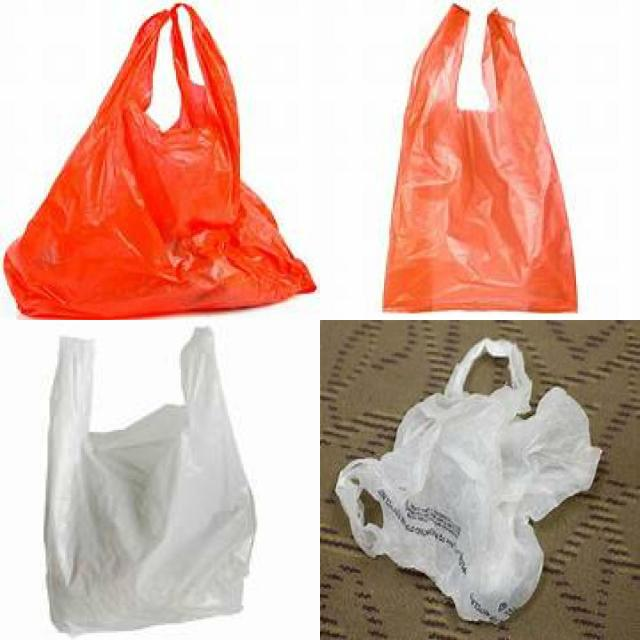Single-layer Plastic: (4, 5, 315, 319), (336, 339, 601, 623), (45, 328, 255, 632), (384, 5, 578, 312)
